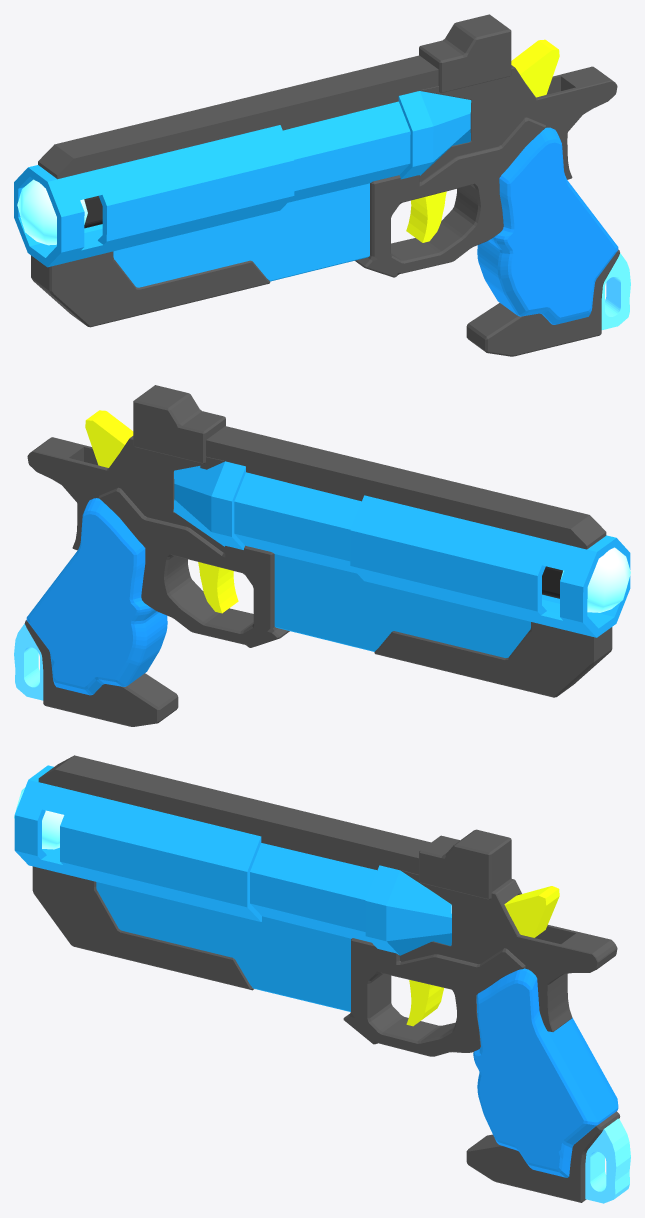
File: pistol.glb
The picture shows the model from 3 angles, top to bottom: view 1: azimuth 30°, elevation 25°; view 2: azimuth 150°, elevation 25°; view 3: azimuth 330°, elevation 25°; orthographic projection.
Parts seen in each view (by area): view 1: Cylinder, Cube003, Cube008, Cube001, Cube002, Cube, Cube006, Cube007, Cube004, Sphere, Cube010, Cube005 (+2 smaller); view 2: Cylinder, Cube003, Cube008, Cube001, Cube002, Cube, Cube006, Cube004, Cube007, Sphere, Cube010, Cube005 (+2 smaller); view 3: Cylinder, Cube003, Cube008, Cube001, Cube002, Cube006, Cube, Cube007, Cube004, Cube005, Cube010, Cube009 (+1 smaller).
Part boxes in pixels (<box>): Cylinder: <box>14,91,471,267</box>; Cube003: <box>477,127,618,324</box>; Cube008: <box>38,55,444,179</box>; Cube001: <box>113,183,369,287</box>; Cube002: <box>355,117,545,277</box>; Cube: <box>31,251,270,327</box>; Cube006: <box>420,65,617,181</box>; Cube007: <box>419,14,511,93</box>; Cube004: <box>466,249,619,356</box>; Sphere: <box>17,179,87,245</box>; Cube010: <box>511,39,559,97</box>; Cube005: <box>601,253,630,329</box>; Cylinder: <box>173,461,630,637</box>; Cube003: <box>26,498,167,695</box>; Cube008: <box>200,426,606,549</box>; Cube001: <box>274,554,530,657</box>; Cube002: <box>98,487,289,647</box>; Cube: <box>374,622,612,697</box>; Cube006: <box>27,436,224,552</box>; Cube004: <box>24,620,178,726</box>; Cube007: <box>133,385,225,463</box>; Sphere: <box>560,547,630,612</box>; Cube010: <box>85,410,133,467</box>; Cube005: <box>14,623,43,700</box>; Cylinder: <box>14,765,451,955</box>; Cube003: <box>473,968,618,1177</box>; Cube008: <box>38,755,430,886</box>; Cube001: <box>96,882,351,1011</box>; Cube002: <box>343,938,525,1056</box>; Cube006: <box>399,870,617,1031</box>; Cube: <box>32,866,253,990</box>; Cube007: <box>419,829,511,899</box>; Cube004: <box>466,1111,620,1202</box>; Cube005: <box>585,1118,630,1203</box>; Cube010: <box>504,886,559,937</box>; Cube009: <box>406,980,443,1026</box>.
Size of the model in its own units: 0.466 by 0.2425 by 0.0633.
